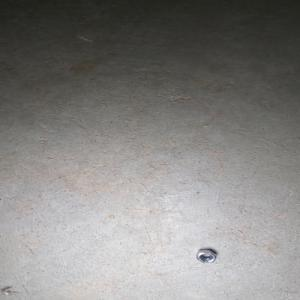Nut: (194, 250, 217, 265)
